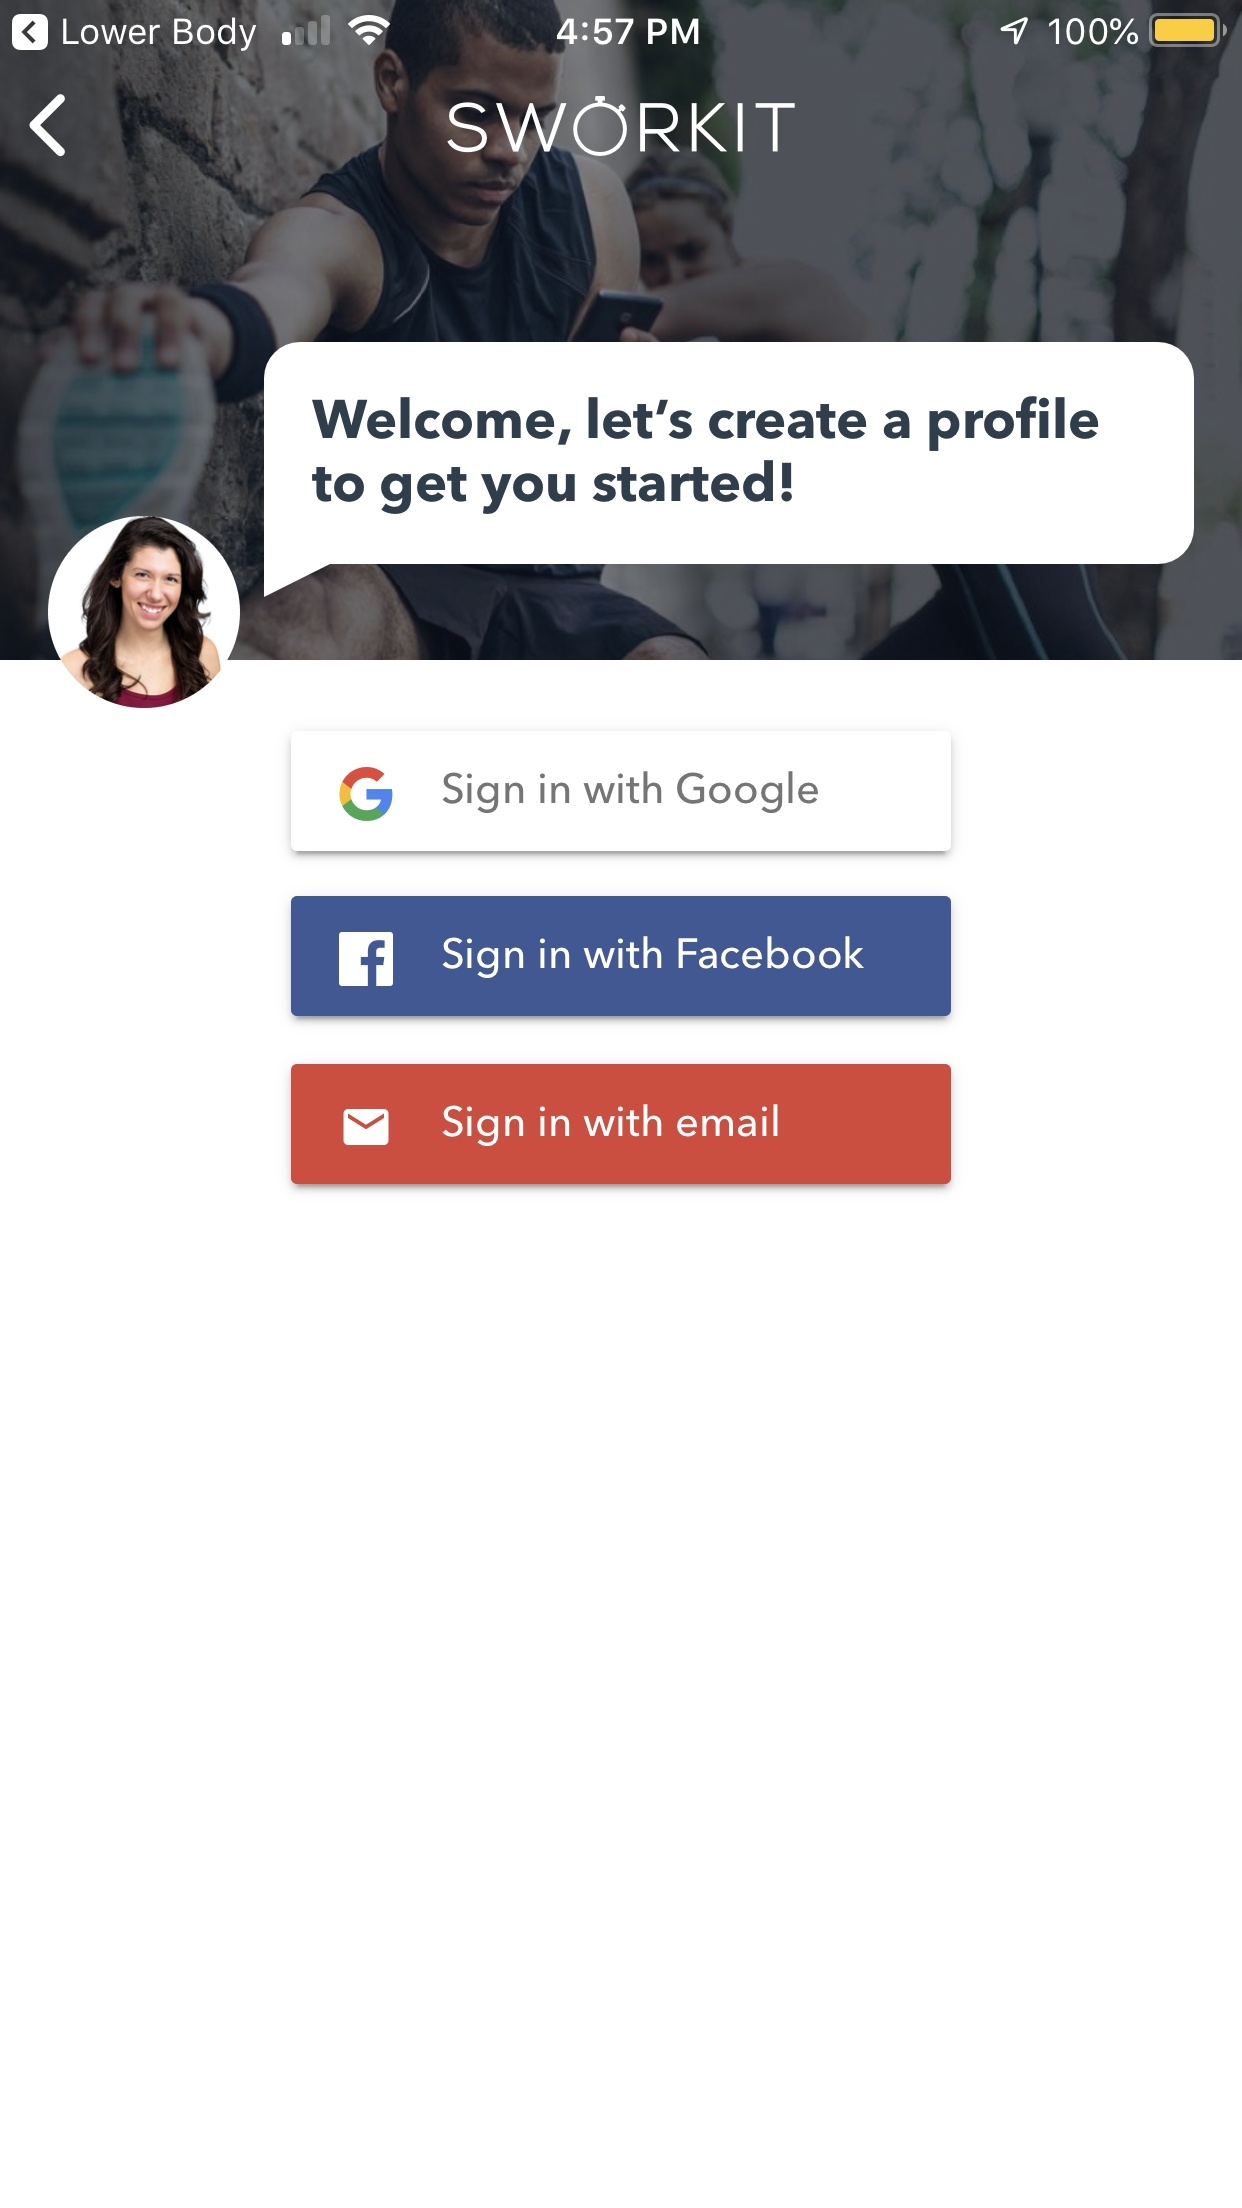Icon: (30, 93, 67, 161)
Image: (2, 2, 1242, 661), (47, 516, 243, 711), (446, 97, 796, 155)
Text: (311, 396, 1099, 517)
TextButton: (291, 729, 952, 852), (291, 896, 952, 1018), (291, 1063, 952, 1184)
UpperTaskBar: (2, 2, 1242, 55)
